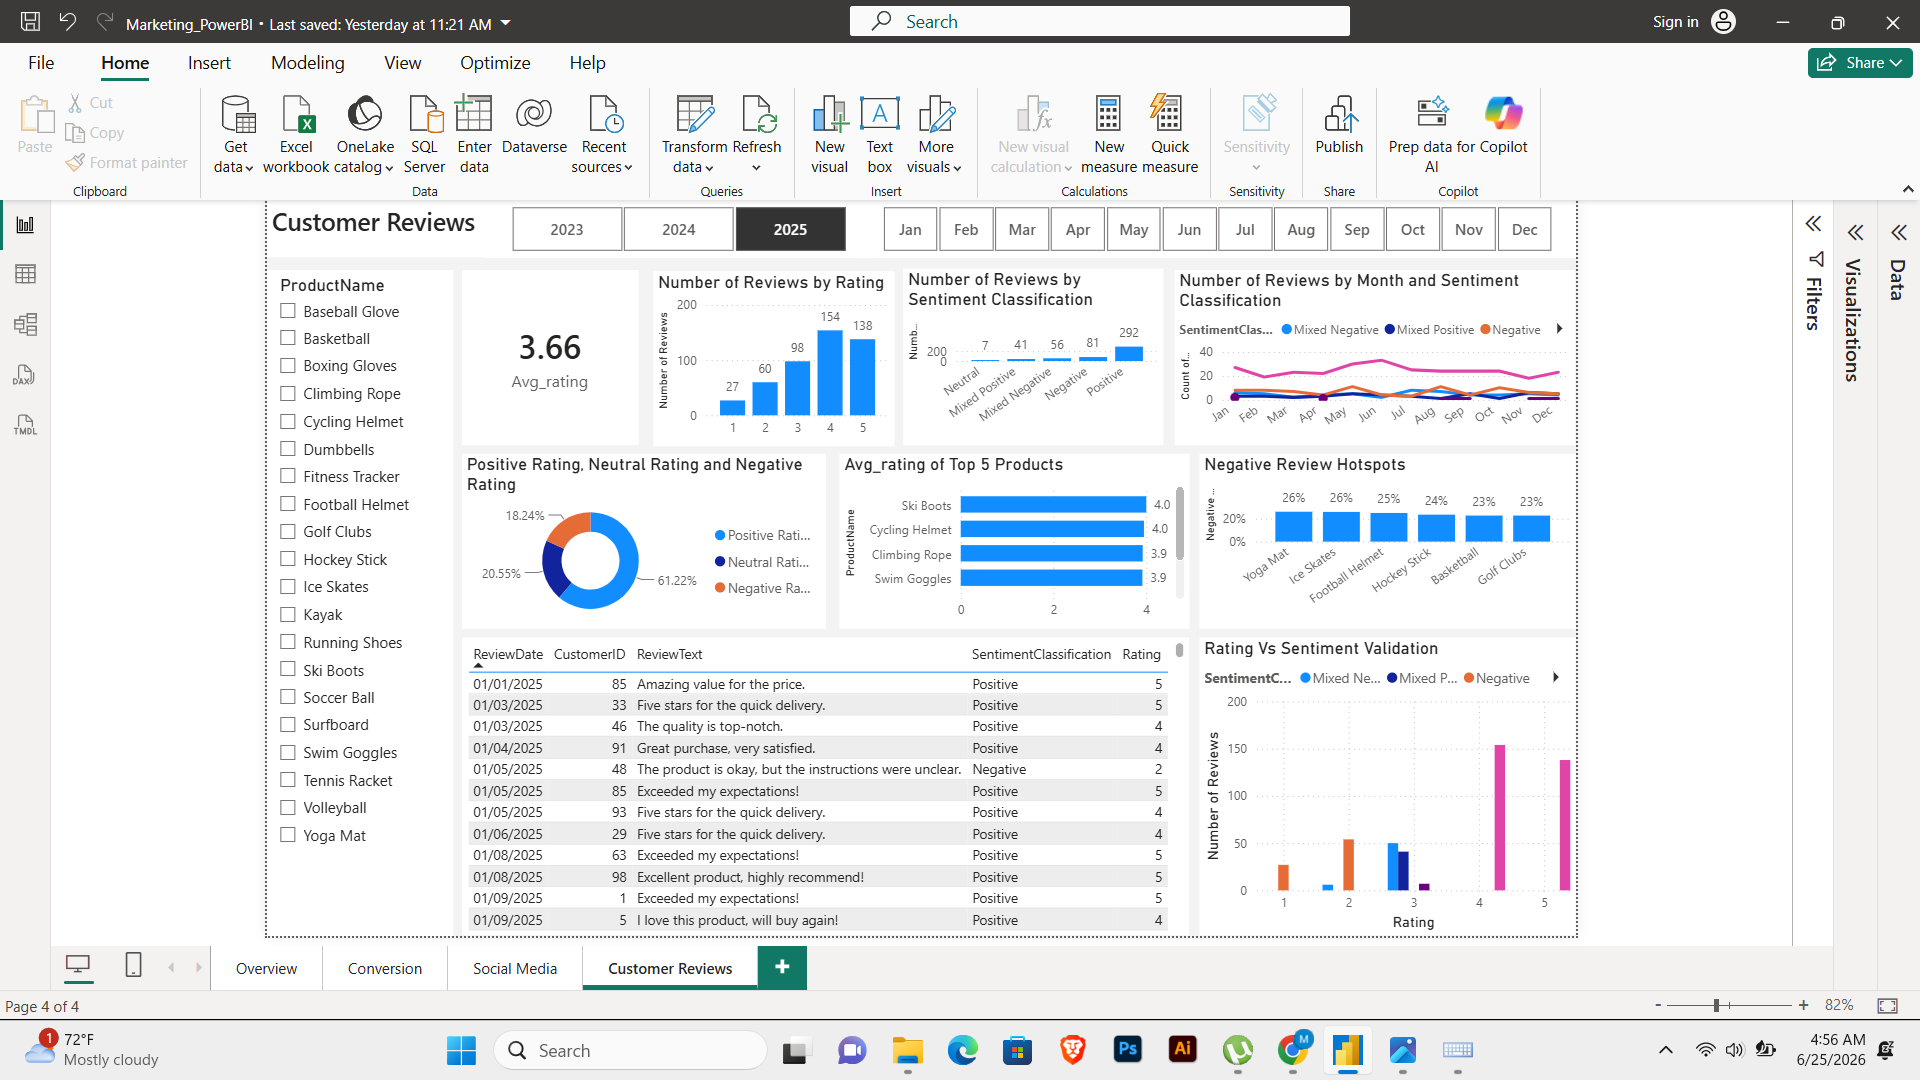

The page's visual inventory and layout, read from the dashboard file:
{"tool":"powerbi","page":{"name":"Customer Reviews","canvas":[1280,720],"ordinal":3},"visuals":[{"type":"textbox","box":[0,0,1280.3,56.3],"z":0},{"type":"slicer","fields":{"Values":["dim_products.ProductName"]},"box":[0,68.5,182.2,651.8],"z":1000},{"type":"slicer","fields":{"Values":["Calendar.Year"]},"box":[214.3,0,376,56.6],"z":2000},{"type":"slicer","fields":{"Values":["Calendar.MonthNameShort"]},"box":[576.8,0,703.5,56.6],"z":3000},{"type":"cardVisual","fields":{"Data":["_Calculations.Avg_rating"]},"box":[191.4,68.7,172.5,171.2],"z":4000},{"type":"columnChart","fields":{"Category":["fact_customer_review.Rating"],"Y":["_Calculations.Number of Reviews"]},"box":[377.3,70.1,235.8,171.2],"z":5000},{"type":"columnChart","title":"Number of Reviews by Sentiment Classification","fields":{"Category":["fact_customer_reviews_with_sentiment.SentimentClassification"],"Y":["CountNonNull(fact_customer_reviews_with_sentiment.ReviewID)"]},"box":[622.6,67.4,254.7,172.5],"z":6000},{"type":"lineChart","title":"Number of Reviews by Month and Sentiment Classification","fields":{"Category":["Calendar.MonthNameShort"],"Series":["fact_customer_reviews_with_sentiment.SentimentClassification"],"Y":["CountNonNull(fact_customer_reviews_with_sentiment.ReviewID)"]},"box":[888.1,68.7,392.2,171.2],"z":7000},{"type":"tableEx","fields":{"Values":["fact_customer_reviews_with_sentiment.ReviewDate","dim_customers.CustomerID","fact_customer_reviews_with_sentiment.ReviewText","fact_customer_reviews_with_sentiment.SentimentClassification","fact_customer_reviews_with_sentiment.Rating"]},"box":[191.4,428.6,711.6,291.1],"z":8000},{"type":"clusteredBarChart","title":"Avg_rating of Top 5 Products","fields":{"Category":["dim_products.ProductName"],"Y":["_Calculations.Avg_rating"]},"box":[560.6,248,342.3,171.2],"z":9000},{"type":"clusteredColumnChart","title":"Rating Vs Sentiment Validation","fields":{"Series":["fact_customer_reviews_with_sentiment.SentimentClassification"],"Category":["fact_customer_reviews_with_sentiment.Rating"],"Y":["CountNonNull(fact_customer_reviews_with_sentiment.ReviewID)"]},"box":[912.4,428.6,367.9,291.1],"z":10000},{"type":"donutChart","fields":{"Y":["_Calculations.Positive Rating","_Calculations.Neutral Rating","_Calculations.Negative Rating"]},"box":[191.4,248,355.8,171.2],"z":11000},{"type":"clusteredColumnChart","title":"Negative Review Hotspots","fields":{"Category":["dim_products.ProductName"],"Y":["_Calculations.Negative Rating"]},"box":[912.4,248,367.9,171.2],"z":12000}]}

Visuals, with their boxes on the page's 1280x720 design canvas (x1, y1, x2, y2). These are canvas units, not pixel positions in the 1920x1080 screenshot, which may show the page scaled, cropped or inside an application window:
textbox: x1=0, y1=0, x2=1280, y2=56
slicer - dim_products.ProductName: x1=0, y1=68, x2=182, y2=720
slicer - Calendar.Year: x1=214, y1=0, x2=590, y2=57
slicer - Calendar.MonthNameShort: x1=577, y1=0, x2=1280, y2=57
cardVisual - _Calculations.Avg_rating: x1=191, y1=69, x2=364, y2=240
columnChart - fact_customer_review.Rating x _Calculations.Number of Reviews: x1=377, y1=70, x2=613, y2=241
"Number of Reviews by Sentiment Classification" columnChart: x1=623, y1=67, x2=877, y2=240
"Number of Reviews by Month and Sentiment Classification" lineChart: x1=888, y1=69, x2=1280, y2=240
tableEx - fact_customer_reviews_with_sentiment.ReviewDate x dim_customers.CustomerID: x1=191, y1=429, x2=903, y2=720
"Avg_rating of Top 5 Products" clusteredBarChart: x1=561, y1=248, x2=903, y2=419
"Rating Vs Sentiment Validation" clusteredColumnChart: x1=912, y1=429, x2=1280, y2=720
donutChart - _Calculations.Positive Rating x _Calculations.Neutral Rating: x1=191, y1=248, x2=547, y2=419
"Negative Review Hotspots" clusteredColumnChart: x1=912, y1=248, x2=1280, y2=419
